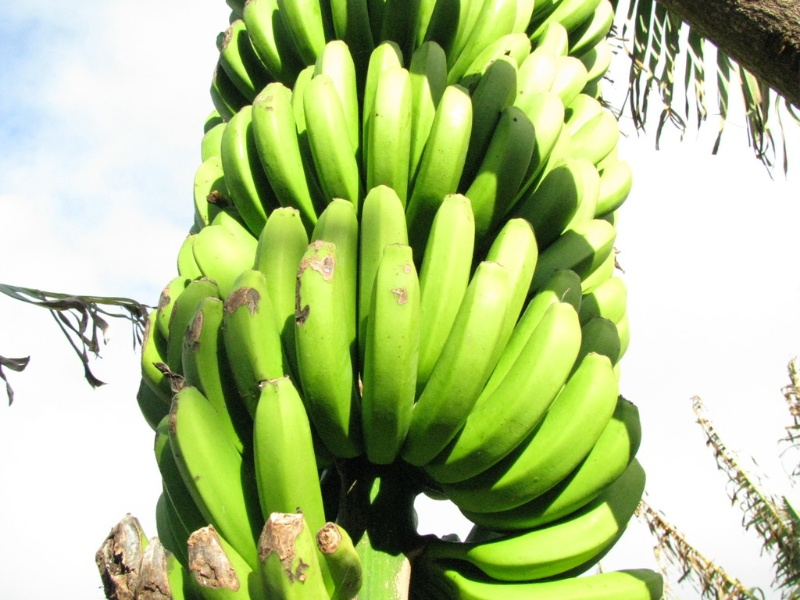banana: (224, 1, 630, 595), (425, 194, 572, 514), (412, 524, 669, 600), (157, 383, 265, 549), (297, 234, 366, 460), (368, 229, 414, 469), (251, 75, 312, 213), (364, 44, 415, 192)
